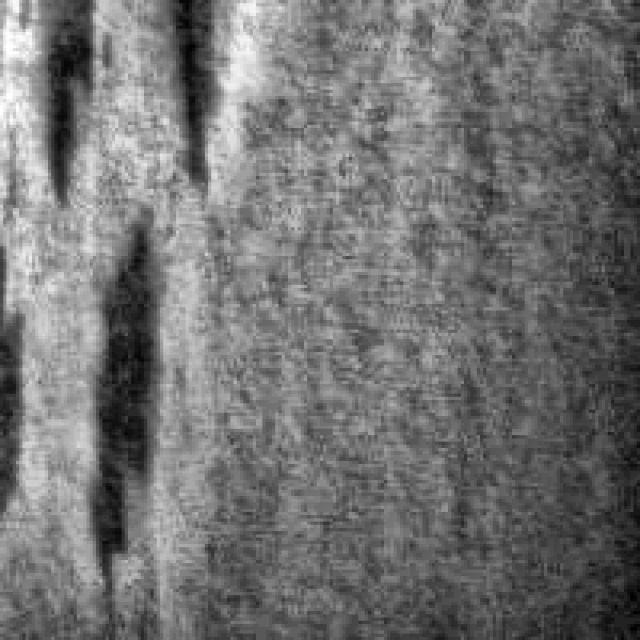Patches: (74, 202, 164, 598), (16, 0, 112, 208), (160, 0, 224, 198)
